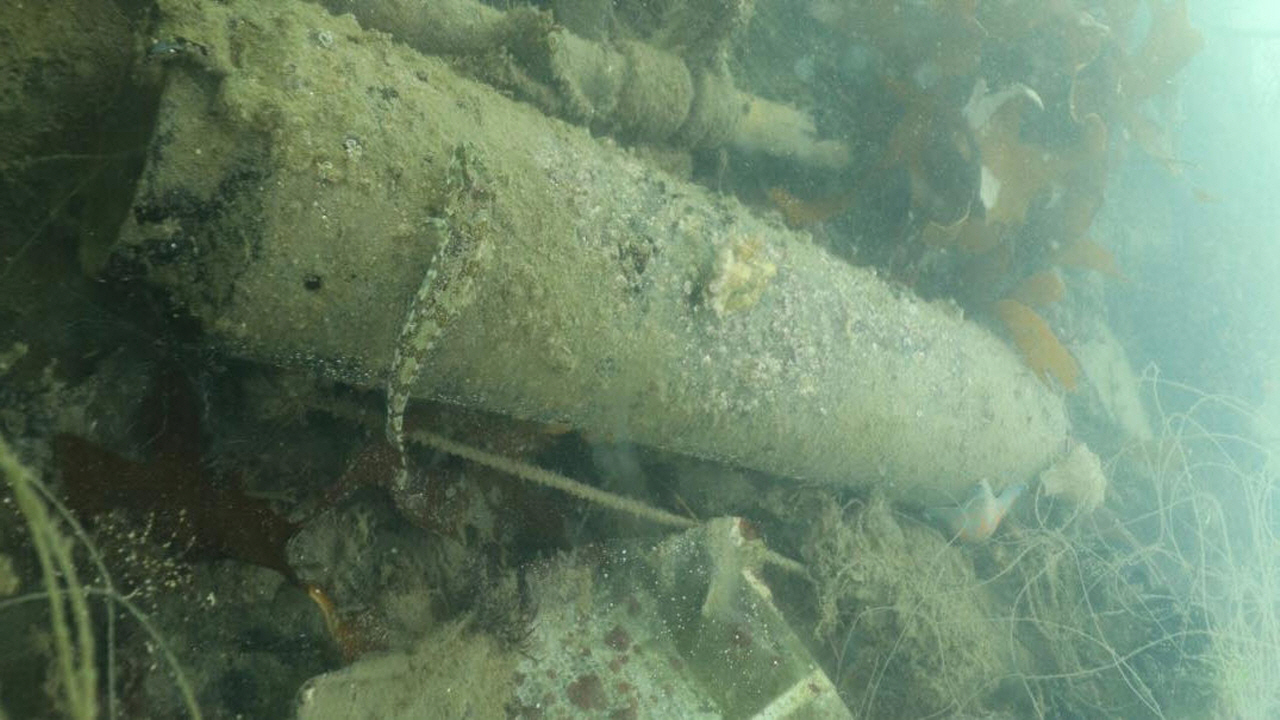eel fish trap: (114, 0, 1072, 511)
